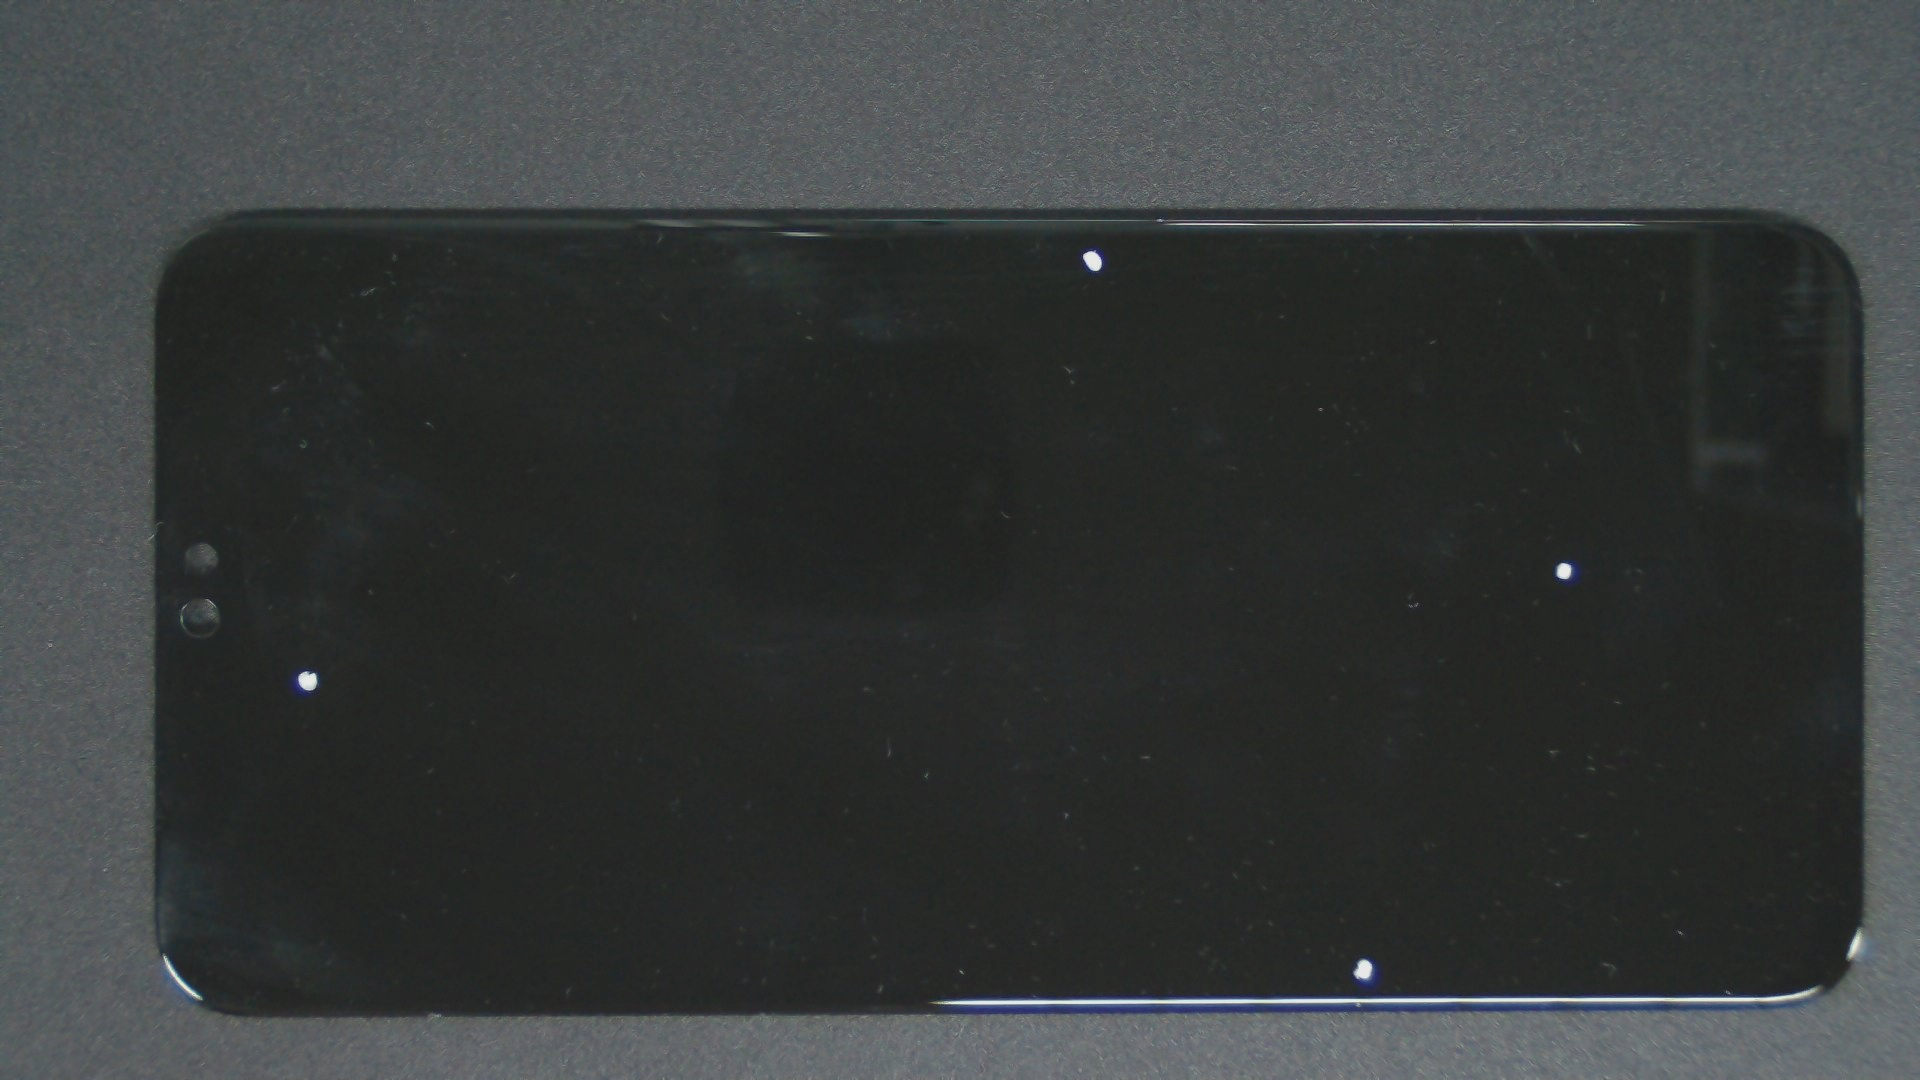oil: (682, 477, 1920, 1080), (781, 280, 1920, 843), (546, 124, 1638, 375), (154, 334, 460, 1004)
